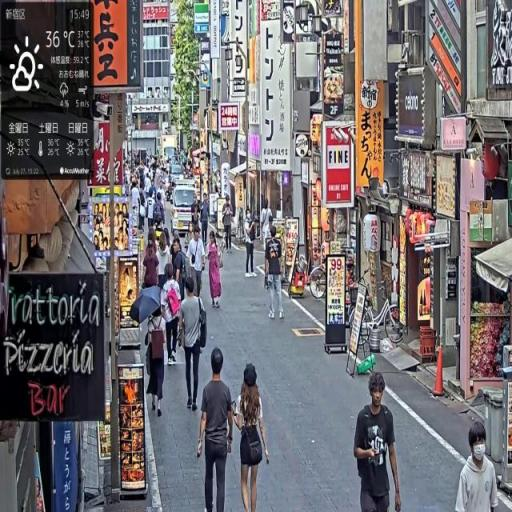person: (354, 369, 403, 512), (197, 348, 236, 512), (231, 362, 272, 512), (179, 274, 210, 415), (457, 419, 500, 512), (145, 303, 168, 418), (162, 264, 183, 367), (266, 225, 285, 323), (207, 231, 226, 312), (188, 225, 207, 301), (144, 241, 161, 292), (244, 213, 257, 278), (222, 195, 234, 254)
